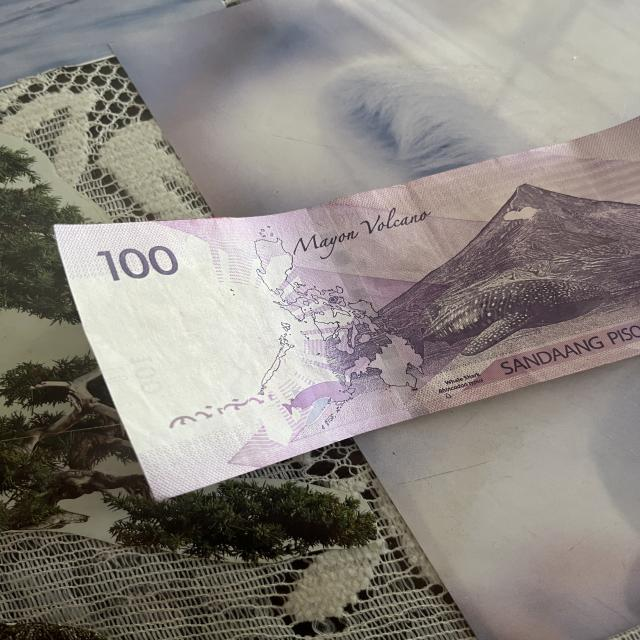100_whale: (370, 271, 630, 366)
100_whale_watermark: (280, 376, 374, 426)
value_watermark: (117, 347, 169, 399)
watermark: (109, 251, 302, 428)
